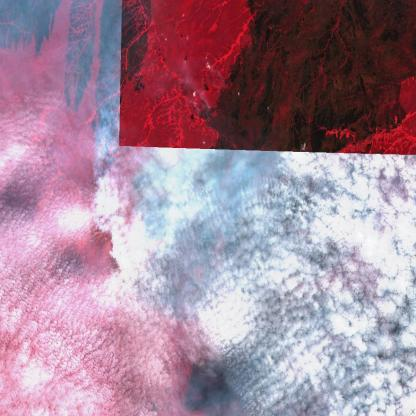fire: (108, 153, 198, 325)
